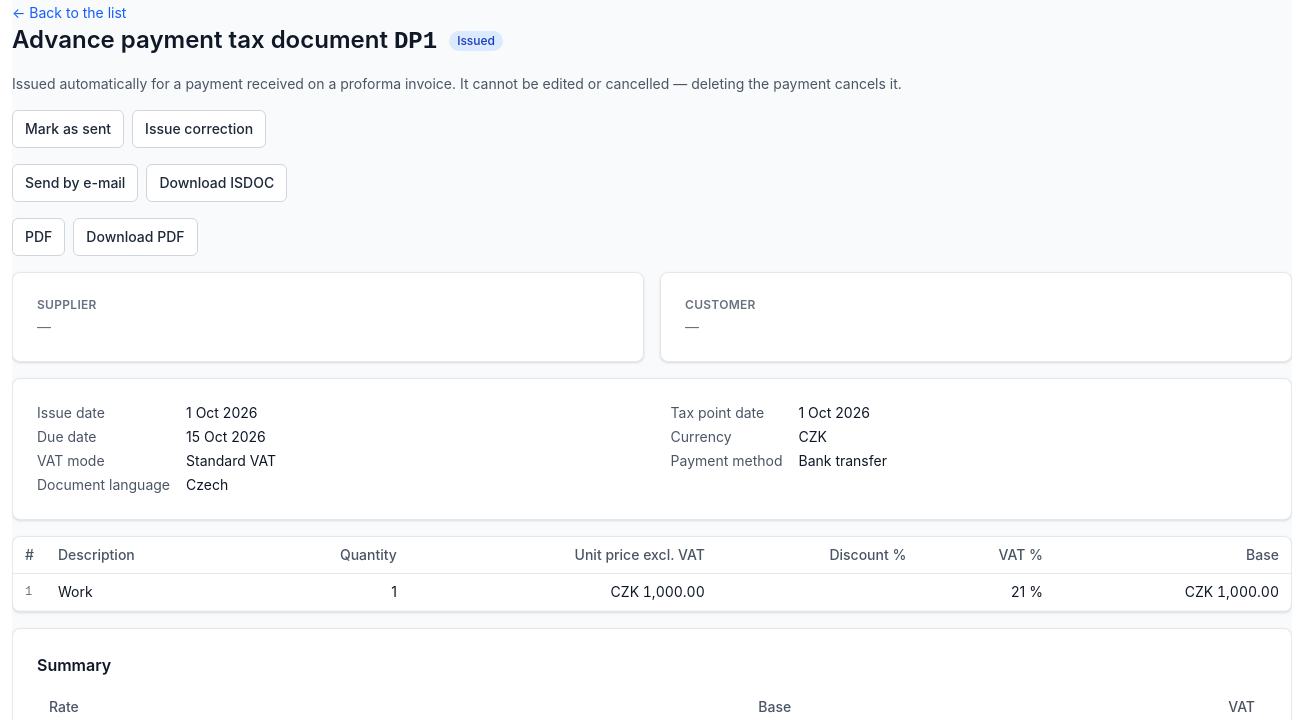
Scenario: correction actions (1f-a) › DDPP correction refused with 409 invalid_state explains why
What coordinates should you click on to do the following:
click the button with test id "ddpp-correction"
I would click on:
 (199, 129)
Its box is left=132, top=110, right=266, bottom=148.
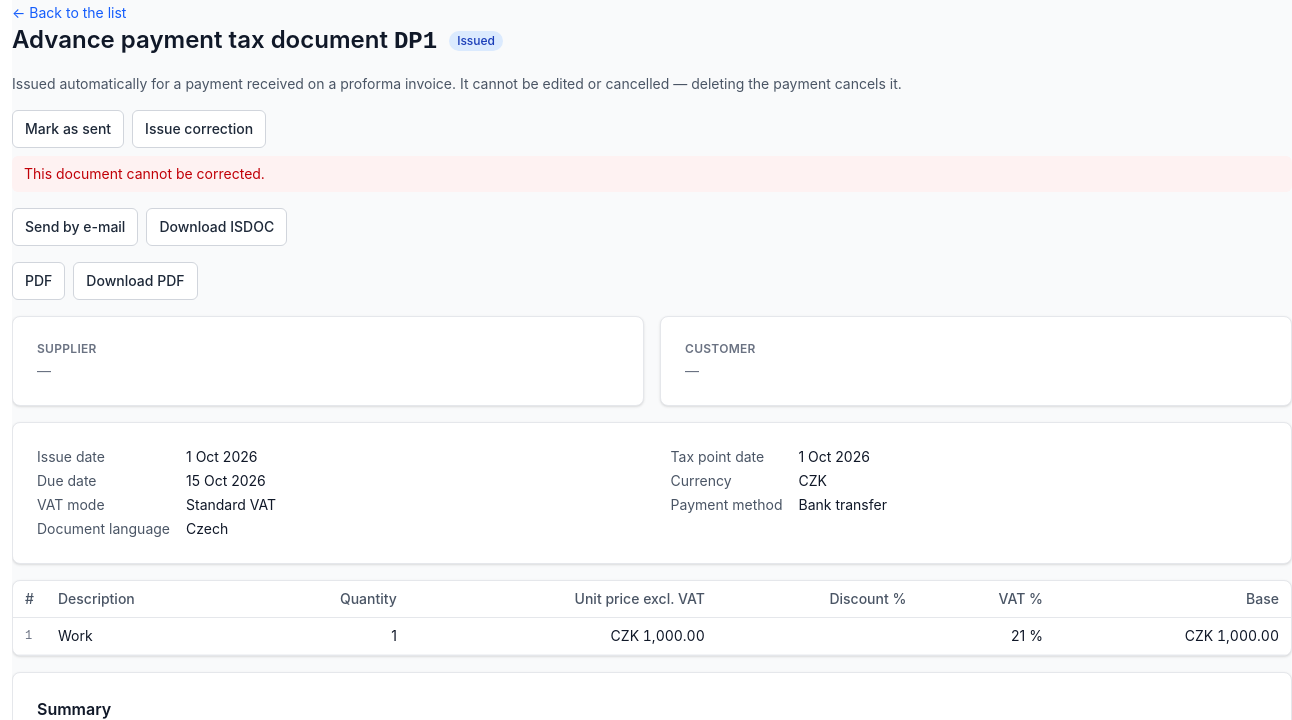
Result: the message with test id "action-error" reads "This document cannot be corrected." at left=24, top=165, right=265, bottom=182
